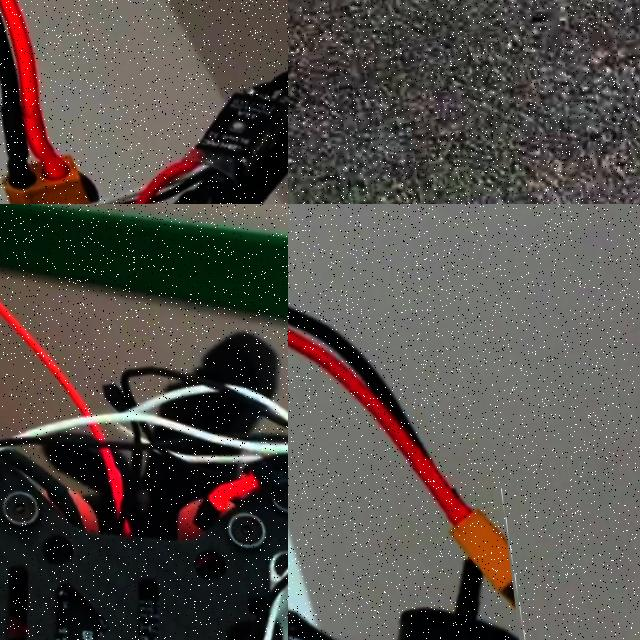drone: (0, 204, 288, 640), (288, 204, 524, 640), (0, 0, 288, 204)
